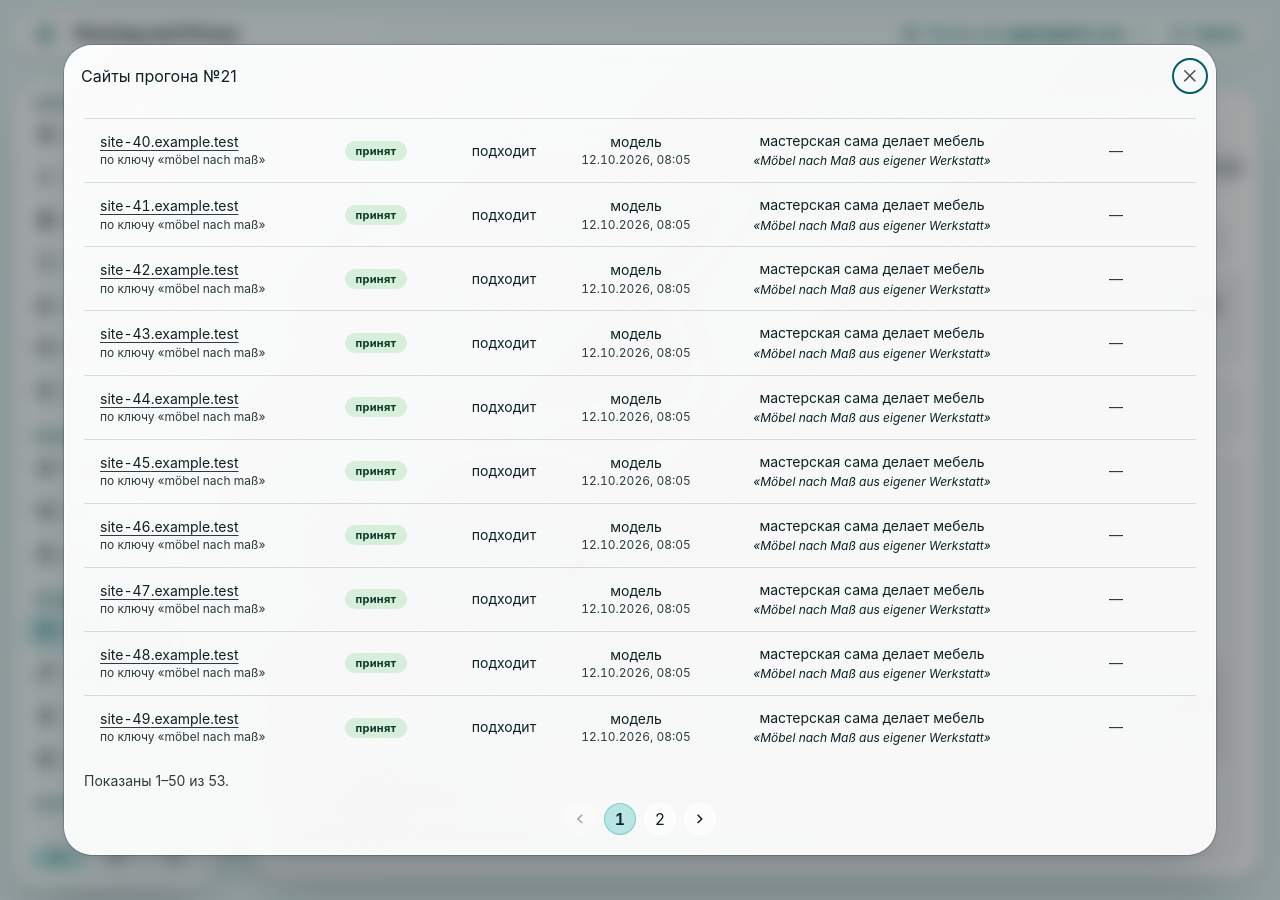
it: сайты прогона › страницы считает сервер: «показаны 51–53 из 53», вторая страница — своим запросом
The image size is (1280, 900).
(page scrolled)
Expected: the text "Показаны 1–50 из 53." is shown, [84, 772, 229, 789]
Click the button named "Страница 2" at (660, 819), box [644, 803, 676, 835]
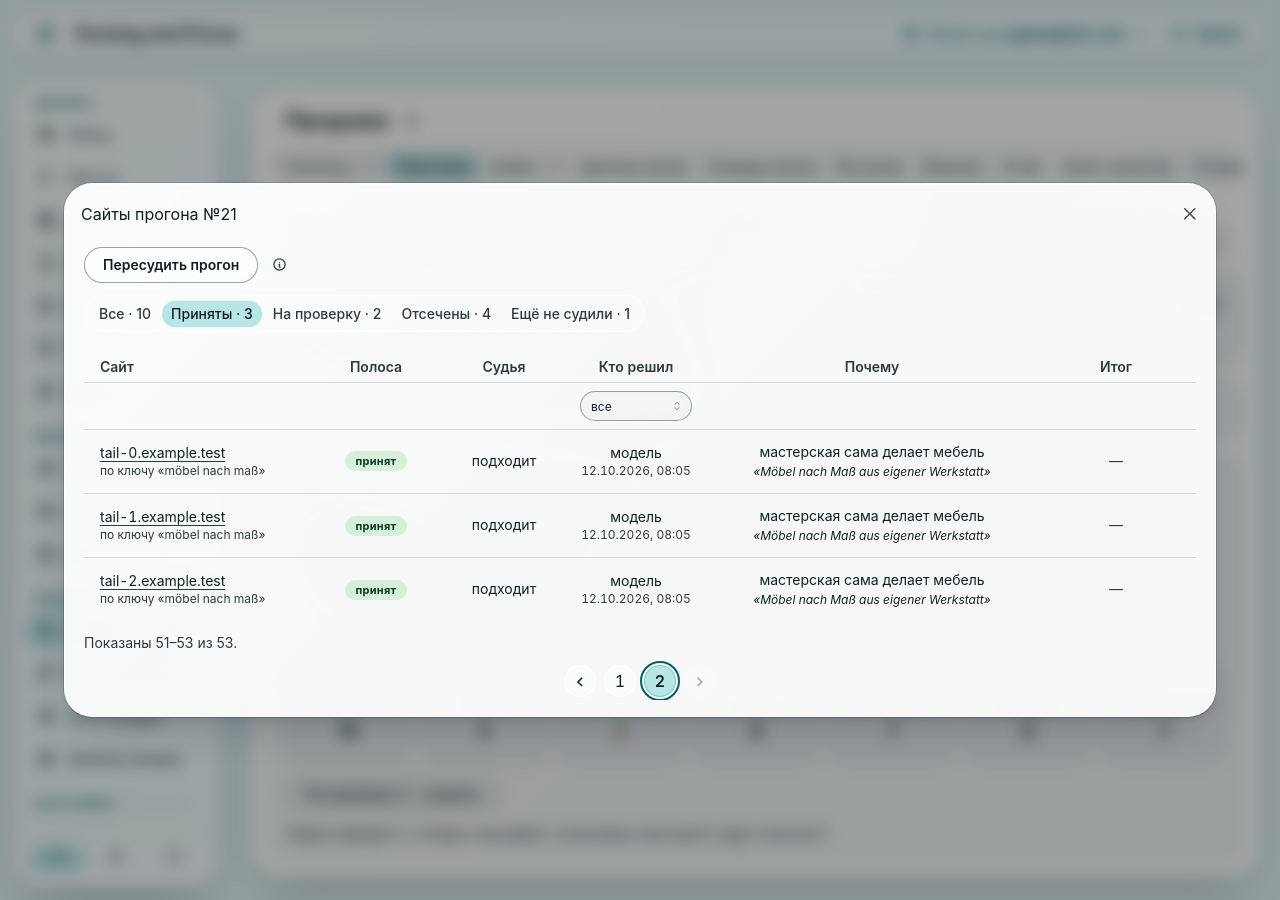
Expected: the text "Показаны 51–53 из 53." is shown, [84, 634, 237, 651]
Expected: the link "tail-0.example.test" is shown, [100, 444, 225, 461]
